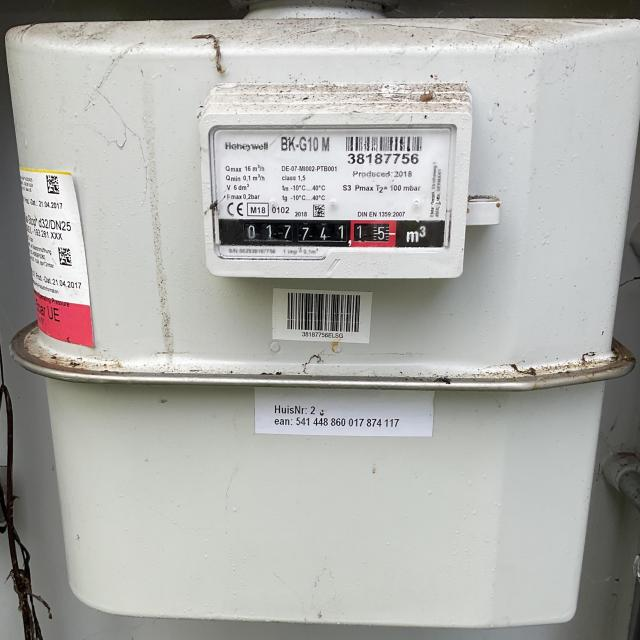gaz_meter: (203, 115, 468, 278)
indication: (237, 218, 397, 245)
